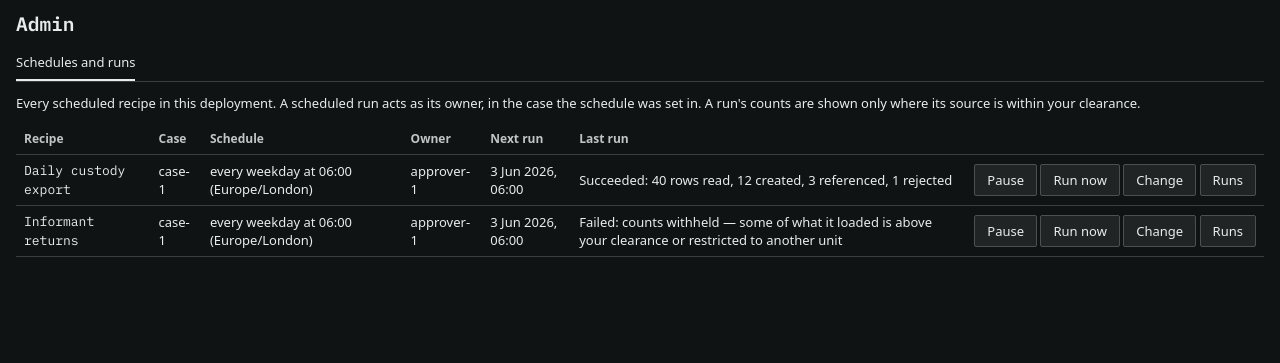
it: Schedules and runs › shows a recipe's runs, with a slot that did not run and why
Click the button with aria-label "Show runs of Daily custody export".
click(1228, 180)  # box [1200,164,1256,196]
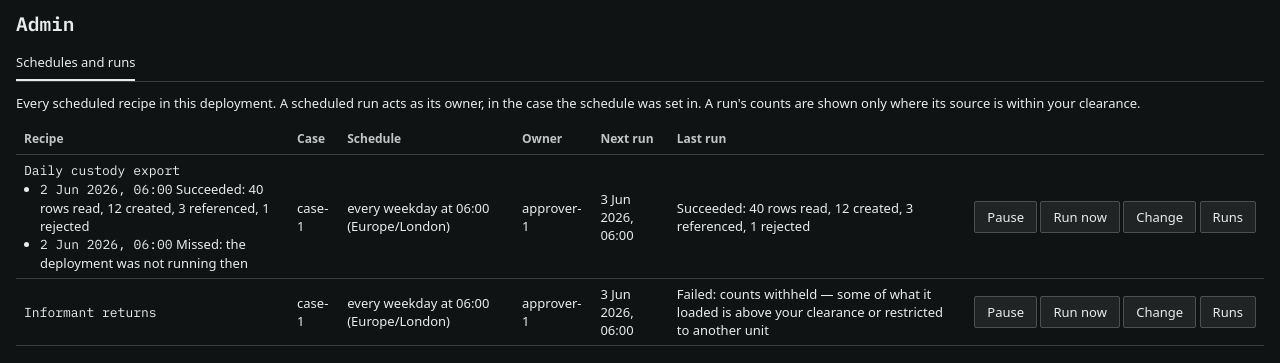
Expected: the text "Missed: the deployment was not running then" is shown, [40,235,248,272]
